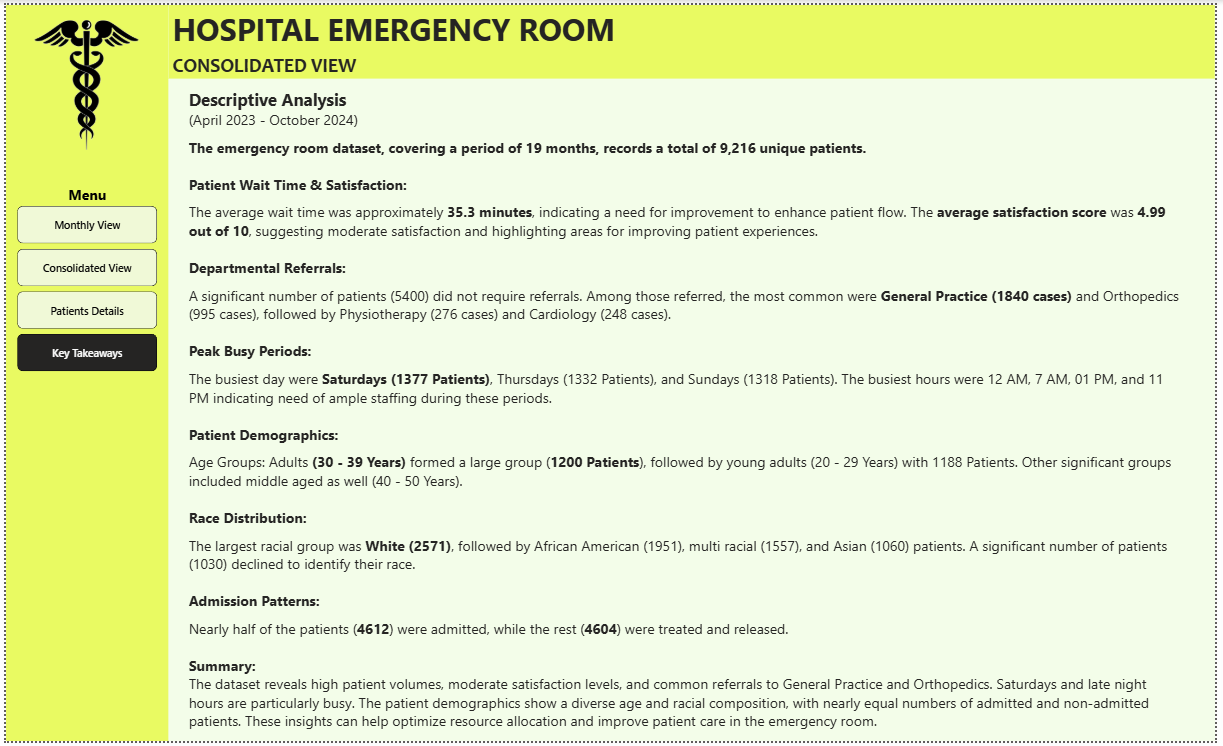

What the dashboard file says about the page in this screenshot:
{"tool":"powerbi","page":{"name":"Key Takeaways","canvas":[2300,1400],"ordinal":3},"visuals":[{"type":"shape","box":[0,0,309.1,1400],"z":0},{"type":"shape","box":[309.1,0,1990.2,140.3],"z":1000},{"type":"textbox","box":[311.5,0,875,88],"z":2000},{"type":"textbox","box":[311.5,88,437.5,90.4],"z":3000},{"type":"image","box":[33.3,23.8,240.2,256.8],"z":4000},{"type":"textbox","box":[342.4,152.2,1899.8,1248.3],"z":5000},{"type":"pageNavigator","title":"Menu","box":[21.4,342.4,266.3,356.7],"z":6000},{"type":"actionButton","box":[47.6,392.3,211.6,57.1],"z":7000}]}

Visuals, with their boxes in screenshot pixels (x1, y1, x2, y2), scaled from the page's 2300x1400 canvas onto the 1223x746 screenshot:
shape: (x1=0, y1=0, x2=164, y2=745)
shape: (x1=164, y1=0, x2=1222, y2=75)
textbox: (x1=166, y1=0, x2=631, y2=47)
textbox: (x1=166, y1=47, x2=398, y2=95)
image: (x1=18, y1=13, x2=145, y2=150)
textbox: (x1=182, y1=81, x2=1192, y2=745)
"Menu" pageNavigator: (x1=11, y1=182, x2=153, y2=373)
actionButton: (x1=25, y1=209, x2=138, y2=239)
